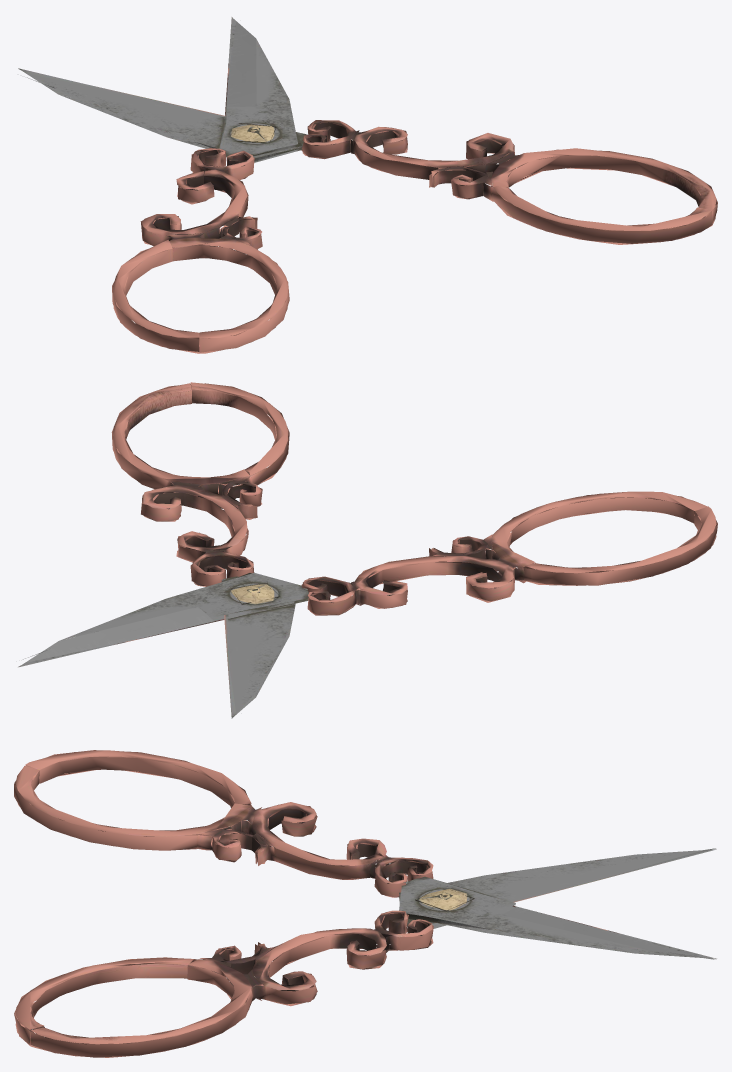
Rendered from scissors.glb.
The picture shows the model from 3 angles, top to bottom: view 1: azimuth 30°, elevation 25°; view 2: azimuth 150°, elevation 25°; view 3: azimuth 270°, elevation 25°; orthographic projection. The views are drawn at different scales.
Visible parts, largest first — view 1: Circle.008_Material_0, Plane.002_Material_0, Plane.004_Material_0, Circle.005_Material_0; view 2: Circle.008_Material_0, Plane.002_Material_0, Plane.004_Material_0, Circle.005_Material_0; view 3: Circle.008_Material_0, Plane.002_Material_0, Plane.004_Material_0, Circle.005_Material_0.
Part boxes in pixels (x1,y1,x2,y2): Circle.008_Material_0: (112,120,717,353); Plane.002_Material_0: (219,17,301,157); Plane.004_Material_0: (18,68,307,162); Circle.005_Material_0: (230,123,276,143); Circle.008_Material_0: (111,382,717,615); Plane.002_Material_0: (18,572,308,667); Plane.004_Material_0: (221,576,295,718); Circle.005_Material_0: (230,582,280,604); Circle.008_Material_0: (14,750,433,1057); Plane.002_Material_0: (399,876,716,959); Plane.004_Material_0: (399,848,716,928); Circle.005_Material_0: (415,887,474,911).
Size of the model in its own units: 377 by 12.14 by 381.
1 material, 1 textured.
